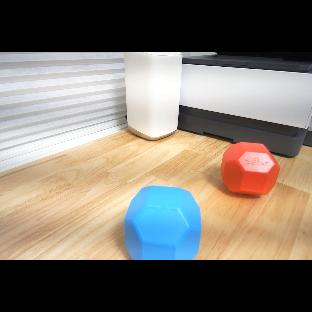V5_BLUE: (123, 184, 202, 260), (124, 186, 201, 260)
V5_RED: (221, 142, 281, 199), (221, 142, 280, 195)
